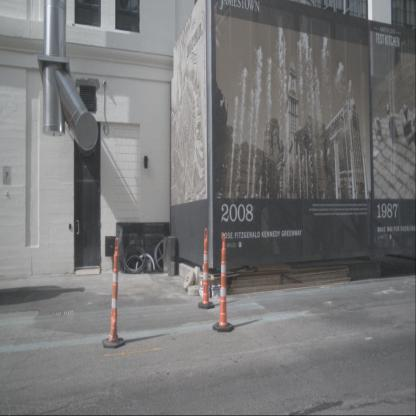movable_object-trafficcone: (102, 237, 125, 349), (212, 233, 234, 333), (198, 228, 214, 310)
